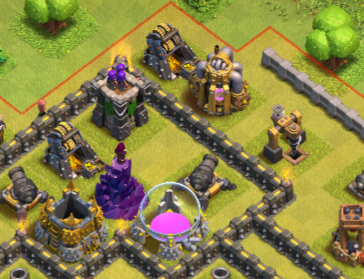dark_elixir_colector: (263, 102, 315, 177)
elixir_colector: (190, 46, 253, 121)
gold_mine: (42, 118, 100, 184), (144, 42, 202, 86)
